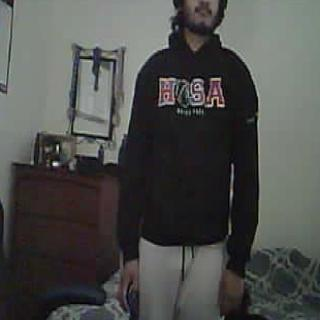HOSA hoodie: (129, 28, 260, 247)
White Sweatpants: (133, 239, 230, 320)
